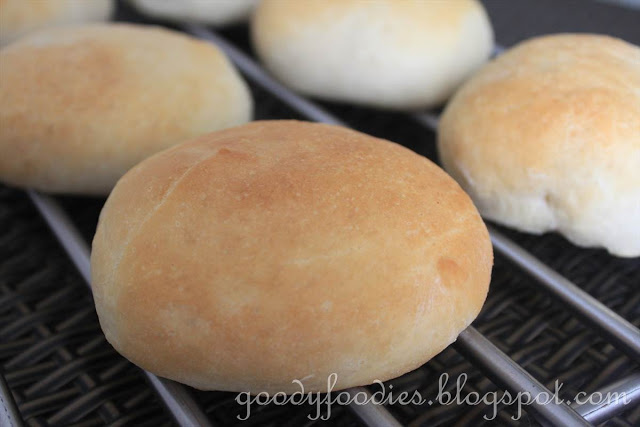hamburger_buns: (80, 111, 500, 396), (1, 18, 262, 206), (430, 32, 640, 246)
